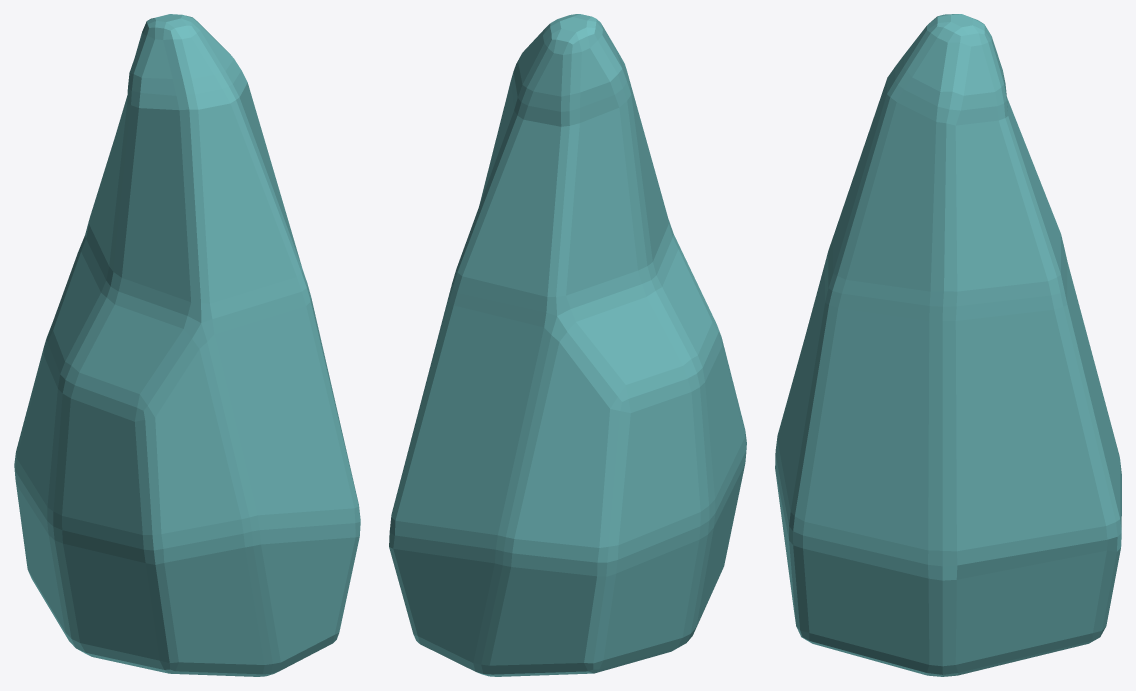
The model's file is rocciona_dream.fbx.
3 renders of one model, left to right at view 1: azimuth 30°, elevation 25°; view 2: azimuth 150°, elevation 25°; view 3: azimuth 270°, elevation 25°, orthographic.
Visible parts, largest first — view 1: rocciona_dream; view 2: rocciona_dream; view 3: rocciona_dream.
Boxes of the visible parts, x1,y1,x2,y2 form: rocciona_dream: [14, 14, 360, 676]; rocciona_dream: [389, 14, 746, 676]; rocciona_dream: [775, 14, 1121, 676].
Size of the model in its own units: 1.69 by 3.84 by 1.93.
